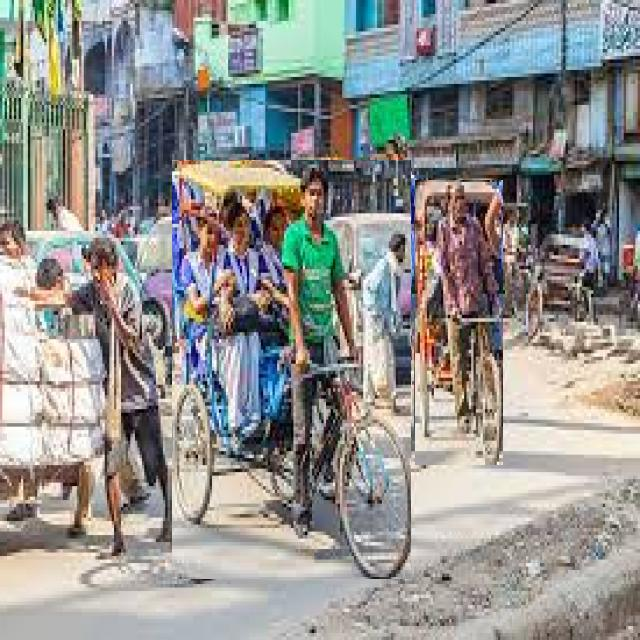bicycle: (172, 160, 410, 579), (415, 180, 503, 465)
